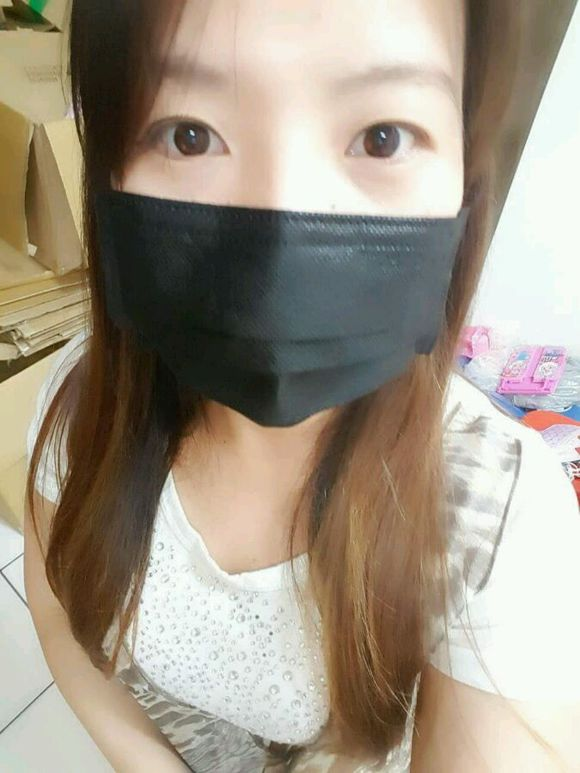face_mask: (108, 1, 460, 424)
